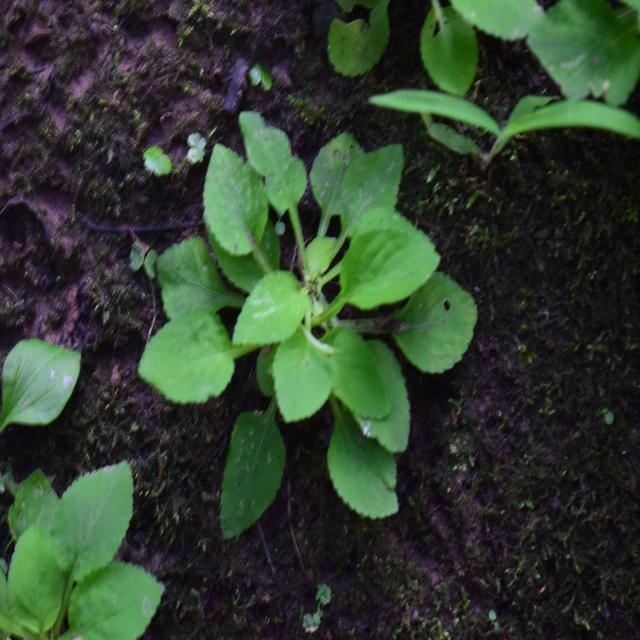Viola: (165, 132, 487, 530)
